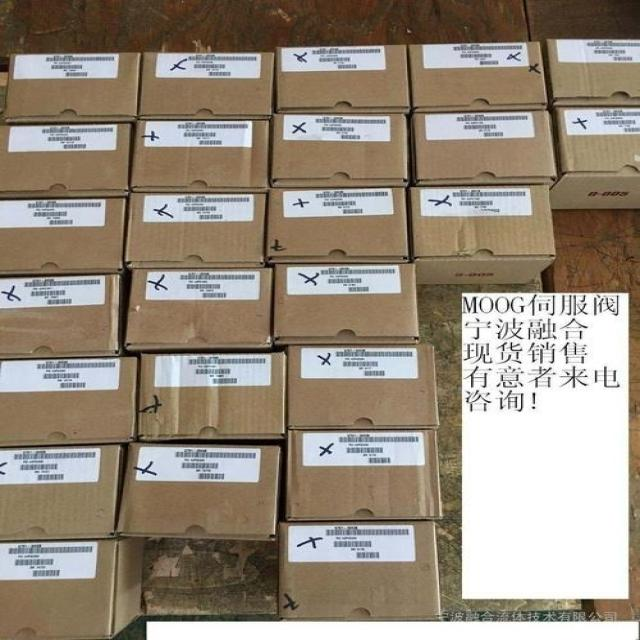box: (277, 521, 443, 620), (116, 443, 279, 541), (0, 532, 149, 639), (408, 186, 556, 285), (285, 429, 441, 521), (137, 351, 285, 443), (285, 344, 440, 431), (0, 357, 139, 447), (124, 269, 272, 353), (274, 261, 420, 344), (0, 447, 125, 540), (411, 111, 560, 187), (265, 187, 411, 263), (0, 274, 128, 360), (126, 192, 267, 269), (129, 118, 271, 192), (0, 123, 134, 199), (405, 42, 547, 113), (272, 113, 408, 187), (0, 197, 127, 274), (5, 54, 142, 123), (275, 44, 410, 114), (140, 51, 275, 120), (549, 107, 639, 209), (541, 39, 639, 109)
